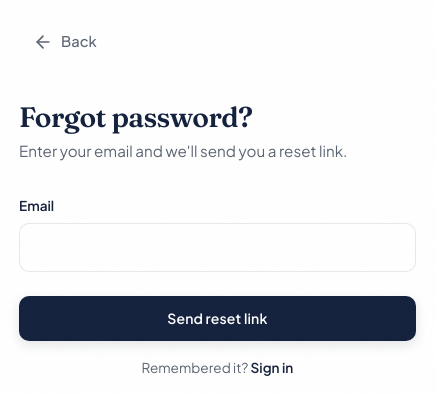
Scenario: ForgotPasswordPage › shows success message after sending
Type "jane@test.com" into the field labelled "Email" at (217, 248), box [19,223,416,272]
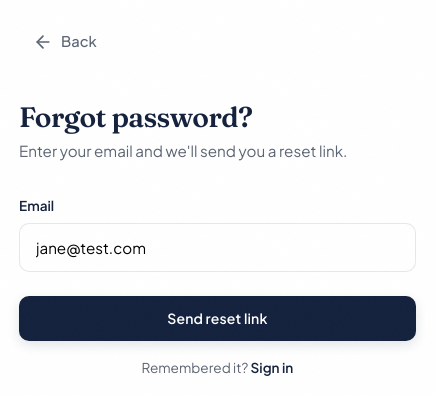
Submit the form "Email Send reset link Remembered it? Sign in", box [19,195,416,378]
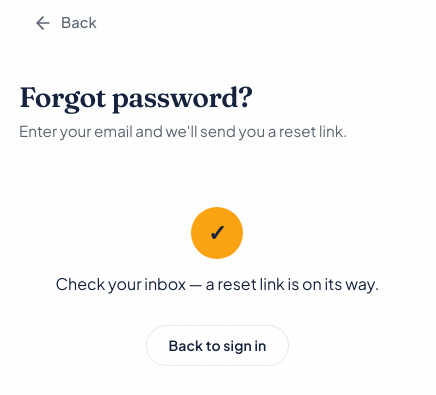
Expected: the text "Check your inbox — a reset link is on its way." is shown, [56,271,379,297]
